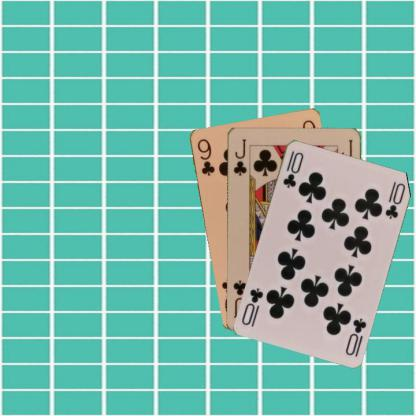10c: (342, 315, 367, 356), (280, 149, 305, 189)
9c: (194, 136, 216, 177)
Jc: (230, 136, 247, 176)
